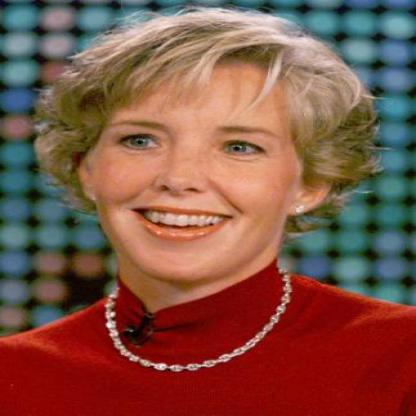face: (94, 21, 306, 287)
